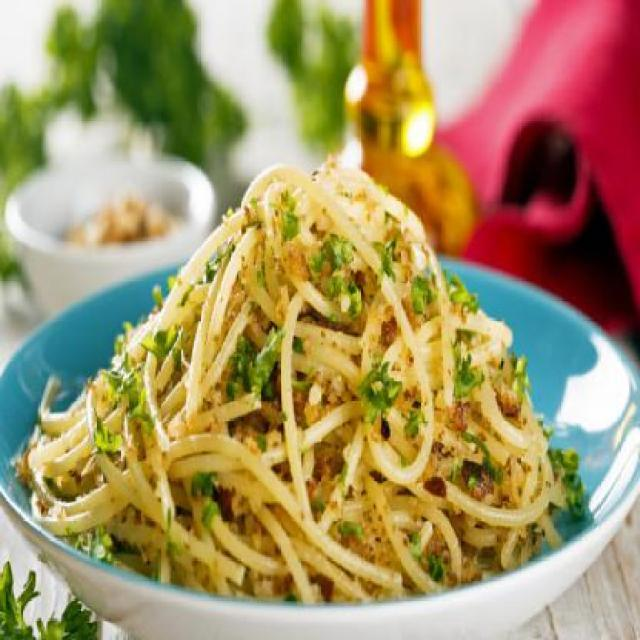Oil pasta: (66, 103, 639, 637)
